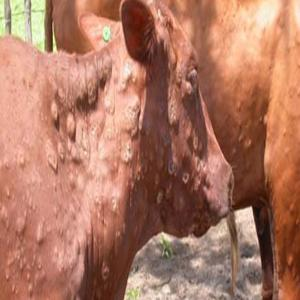lumpy skin diesease: (46, 0, 299, 299)
